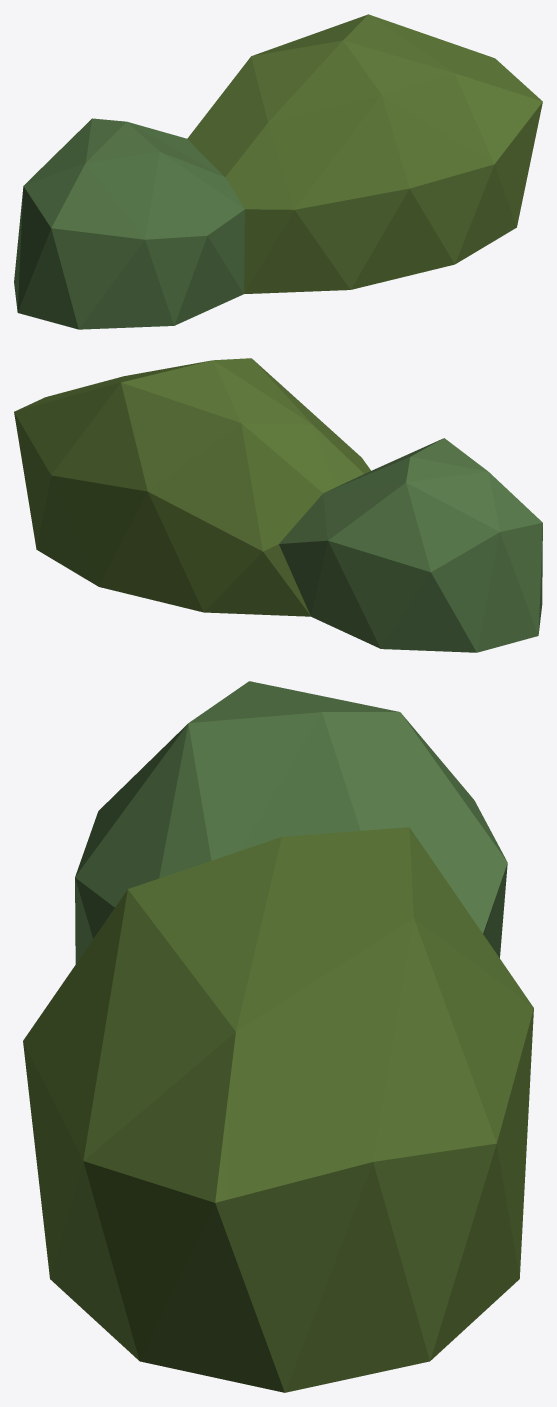
The model's file is Bush2.fbx.
3 renders of one model, top to bottom at view 1: azimuth 30°, elevation 25°; view 2: azimuth 150°, elevation 25°; view 3: azimuth 270°, elevation 25°, orthographic. The views are drawn at different scales.
Visible parts, largest first — view 1: Bush2; view 2: Bush2; view 3: Bush2.
Part boxes in pixels (x1,y1,x2,y2): Bush2: [14, 14, 542, 329]; Bush2: [14, 358, 542, 652]; Bush2: [23, 681, 533, 1392].
Bounding box in the file's own units: 2.54 × 0.9306 × 1.11.
